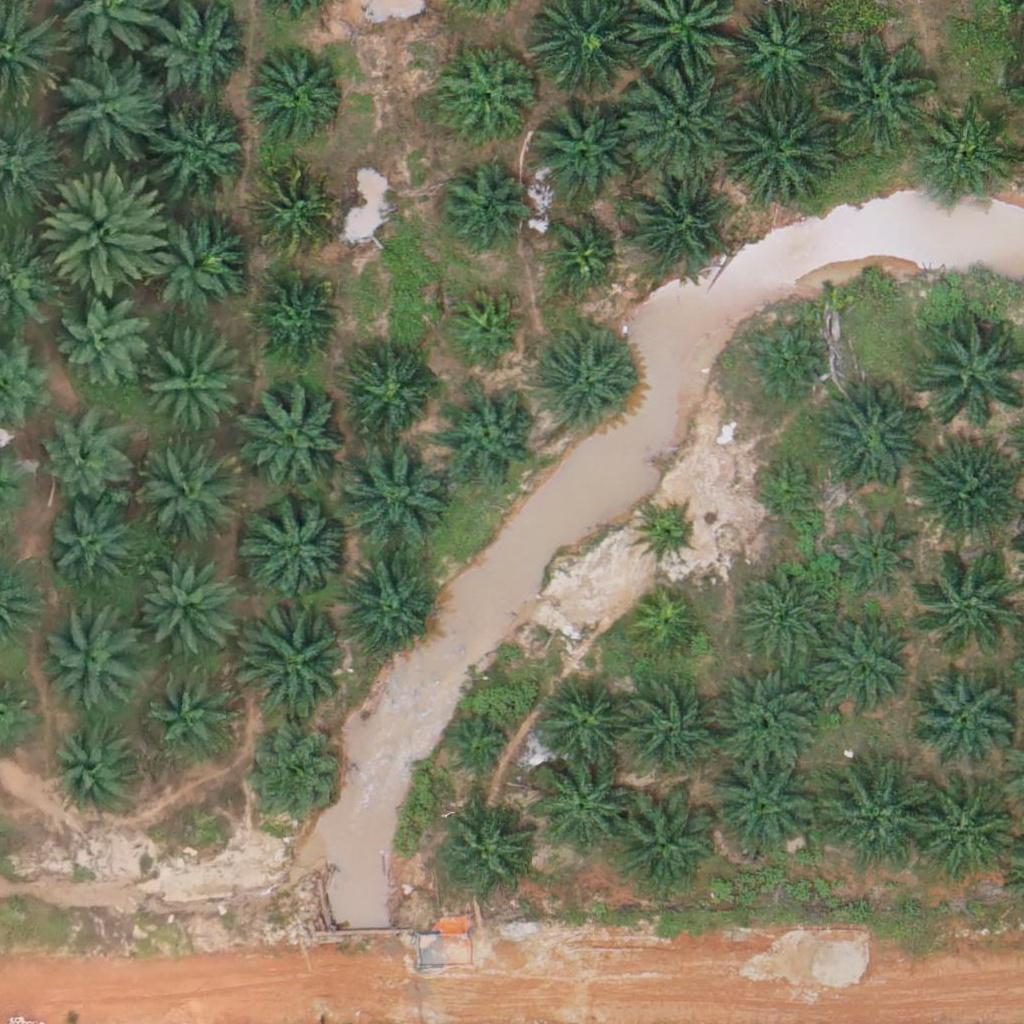Kelapa_Sawit: (46, 170, 171, 296), (720, 94, 833, 208), (48, 48, 161, 162), (811, 385, 924, 498), (709, 663, 822, 776), (706, 751, 819, 864), (608, 790, 721, 903), (337, 436, 450, 549), (238, 380, 351, 493), (242, 491, 355, 604), (814, 760, 926, 874), (904, 779, 1016, 892), (907, 440, 1019, 553), (820, 36, 932, 149), (628, 69, 740, 182), (241, 603, 353, 716), (911, 668, 1011, 769), (528, 99, 628, 200), (811, 619, 911, 720), (619, 685, 719, 786), (534, 676, 634, 777), (336, 557, 436, 658), (436, 802, 536, 903), (248, 41, 348, 142), (244, 730, 344, 831), (155, 100, 255, 201), (141, 337, 241, 438), (136, 449, 236, 550), (132, 557, 232, 658), (916, 109, 1016, 209), (626, 174, 726, 274), (536, 334, 636, 434), (734, 567, 834, 667), (529, 756, 629, 856), (439, 42, 539, 142), (442, 387, 542, 487), (150, 7, 250, 107), (140, 207, 240, 307), (43, 609, 143, 709), (834, 513, 922, 601), (739, 321, 827, 409), (436, 159, 524, 247), (347, 354, 435, 442), (247, 165, 335, 253), (40, 417, 128, 505), (43, 504, 130, 593), (250, 273, 337, 361), (150, 675, 237, 763), (52, 724, 139, 812), (58, 297, 145, 385), (448, 290, 523, 366), (543, 216, 618, 291), (751, 452, 826, 527), (627, 590, 702, 665), (442, 714, 517, 789), (636, 503, 699, 566)
